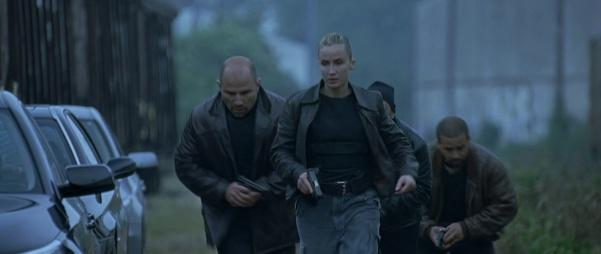Gun: (236, 174, 269, 198), (305, 170, 326, 201)
